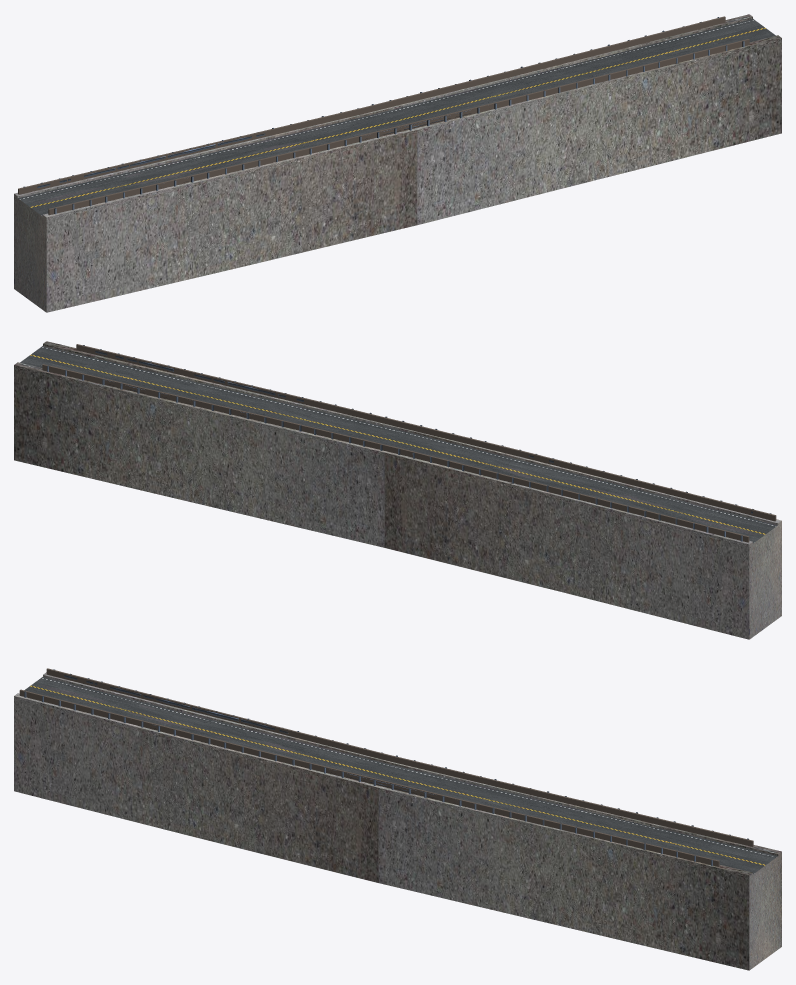
The model's file is straight-extra-long.fbx.
3 views of the same model, one above another, from view 1: azimuth 30°, elevation 25°; view 2: azimuth 150°, elevation 25°; view 3: azimuth 330°, elevation 25° (orthographic).
Parts seen in each view (by area): view 1: Plane.016, Plane.038; view 2: Plane.016, Plane.038; view 3: Plane.016, Plane.038.
Boxes of the visible parts, bbox=[...] form: Plane.016: bbox=[14, 14, 781, 312]; Plane.038: bbox=[18, 16, 749, 215]; Plane.016: bbox=[14, 341, 781, 639]; Plane.038: bbox=[42, 344, 776, 542]; Plane.016: bbox=[14, 669, 781, 970]; Plane.038: bbox=[19, 668, 753, 866].
Size of the model in its own units: 16928 by 2224 by 1419.
